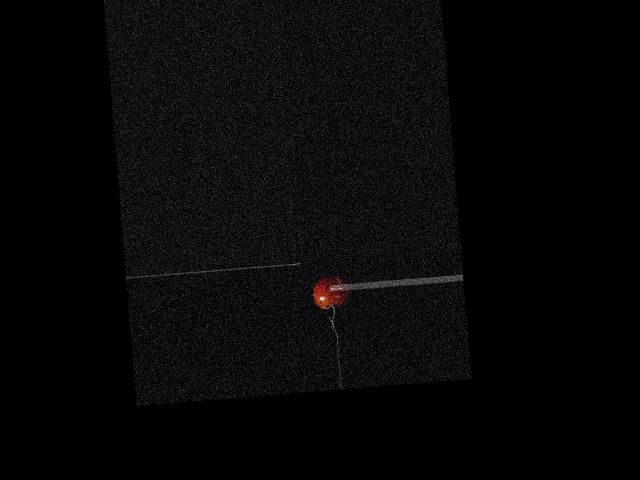tomato: (312, 276, 349, 308)
